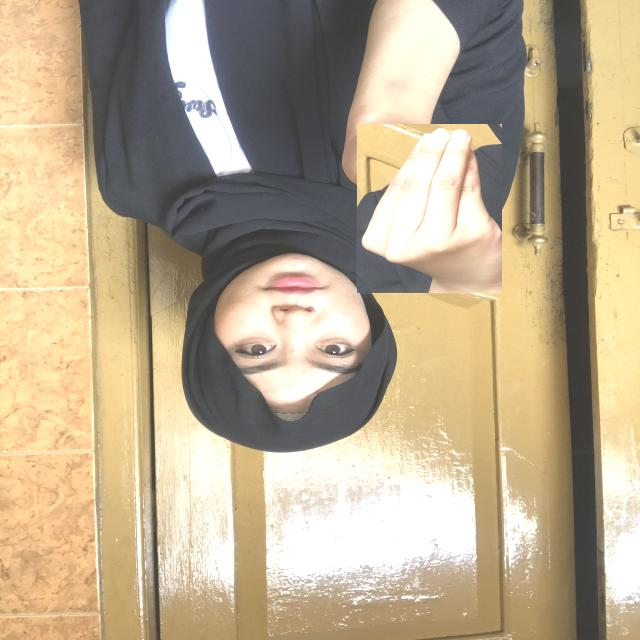kapan: (356, 124, 502, 294)
